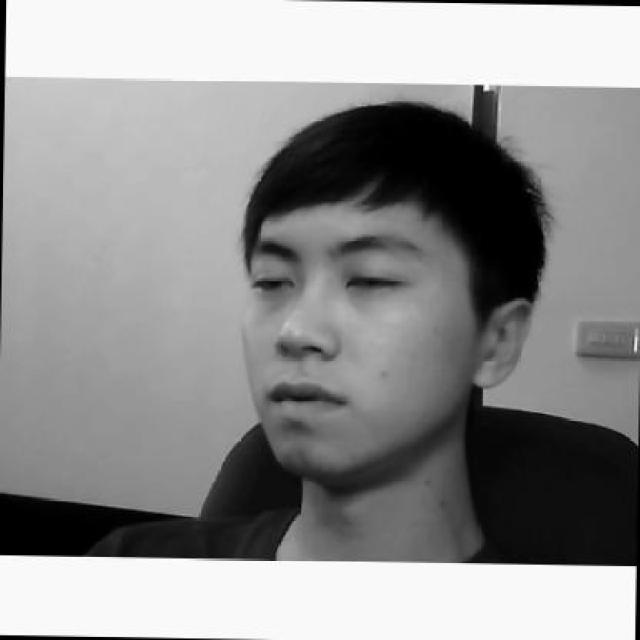inattentif: (238, 93, 536, 479)
